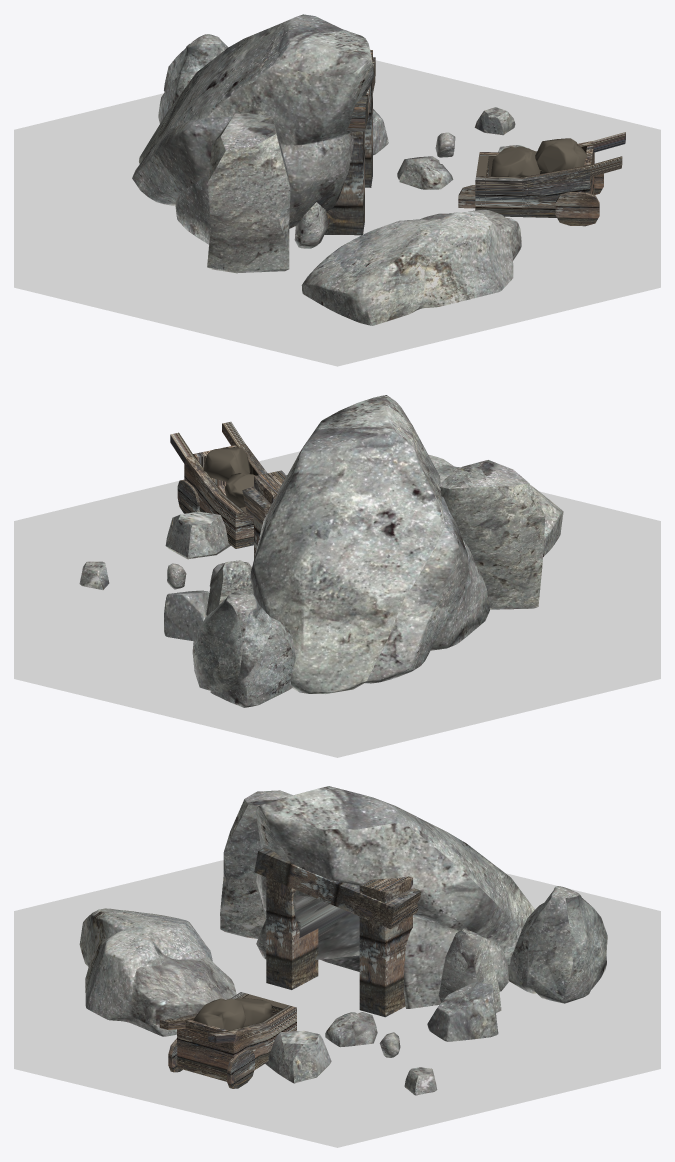
File: iron_resource.glb
3 renders of one model, top to bottom at view 1: azimuth 30°, elevation 25°; view 2: azimuth 150°, elevation 25°; view 3: azimuth 270°, elevation 25°, orthographic.
Visible parts, largest first — view 1: Hex, Resource, Improvement; view 2: Hex, Resource, Improvement; view 3: Hex, Resource, Improvement.
Boxes of the visible parts, <box> form: Hex: <box>14,60,660,366</box>; Resource: <box>132,14,529,325</box>; Improvement: <box>324,49,625,235</box>; Hex: <box>14,451,660,757</box>; Resource: <box>79,395,563,707</box>; Improvement: <box>170,421,287,558</box>; Hex: <box>14,860,660,1147</box>; Resource: <box>79,786,607,1095</box>; Improvement: <box>159,847,421,1088</box>.
Size of the model in its own units: 6.67 by 1.91 by 5.77.
Materials: 2 (2 with a texture image).
